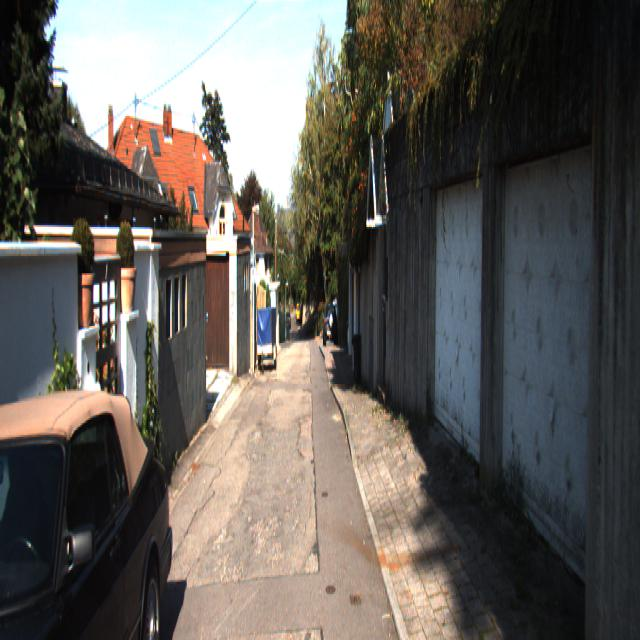Car: (0, 364, 176, 638), (256, 306, 276, 375), (321, 305, 338, 347)
